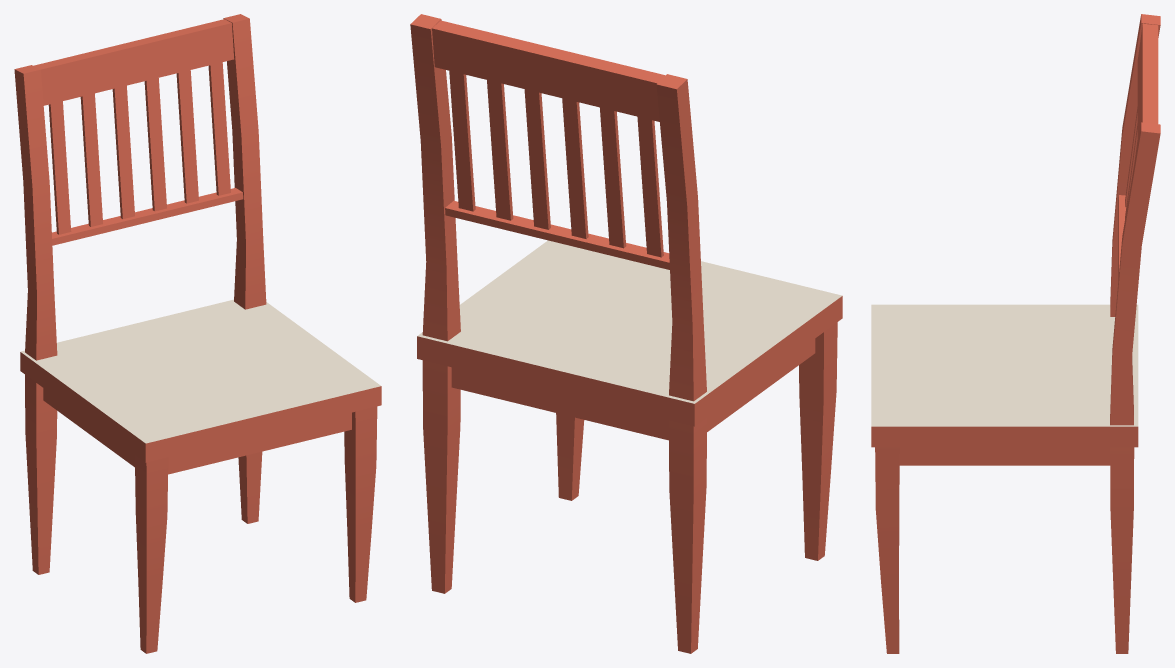
File: chair_c.glb
3 renders of one model, left to right at view 1: azimuth 30°, elevation 25°; view 2: azimuth 150°, elevation 25°; view 3: azimuth 270°, elevation 25°, orthographic. The views are drawn at different scales.
Visible parts, largest first — view 1: body; view 2: body; view 3: body.
Boxes of the visible parts, x1,y1,x2,y2 form: body: [14, 14, 381, 653]; body: [410, 14, 842, 653]; body: [871, 14, 1160, 653].
Bounding box in the file's own units: 0.45 × 0.9 × 0.45.
